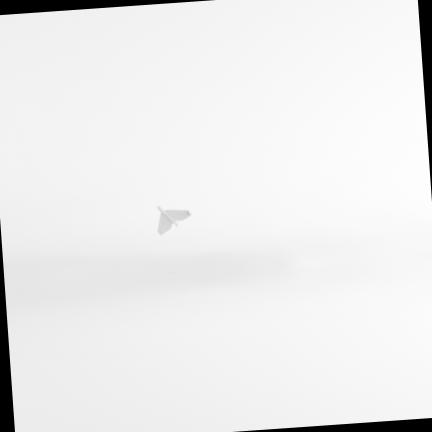Shahed: (158, 205, 192, 235), (175, 203, 177, 206)
